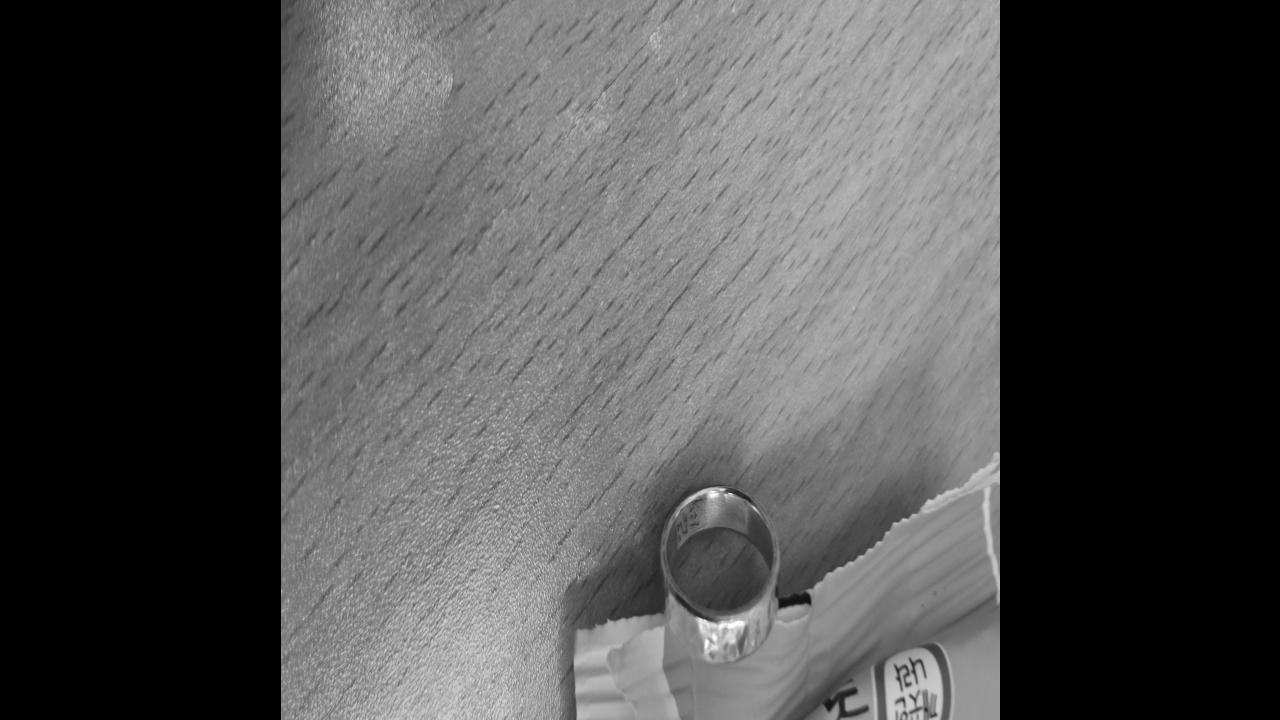ring: (657, 482, 778, 666)
